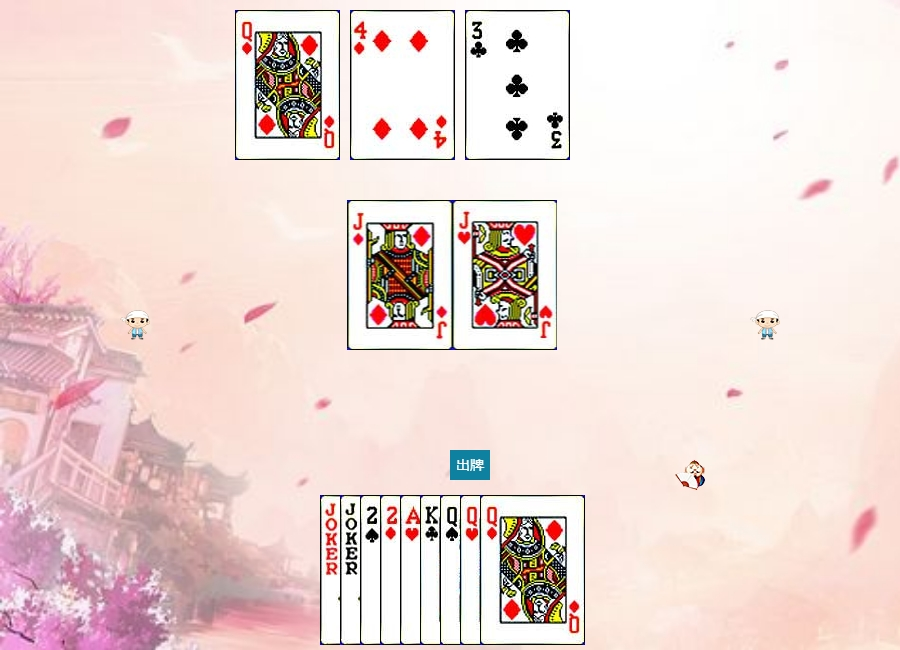11~1: (348, 200, 453, 350)
11~3: (453, 200, 558, 350)
12~1: (235, 10, 340, 160), (480, 495, 585, 645)
12~3: (460, 495, 565, 645)
12~4: (440, 495, 545, 645)
13~2: (420, 495, 525, 645)
14~3: (400, 495, 505, 645)
15~1: (380, 495, 485, 645)
15~4: (360, 495, 465, 645)
17~3: (340, 495, 445, 645)
18~4: (320, 495, 425, 645)
3~2: (465, 10, 570, 160)
4~1: (350, 10, 455, 160)
